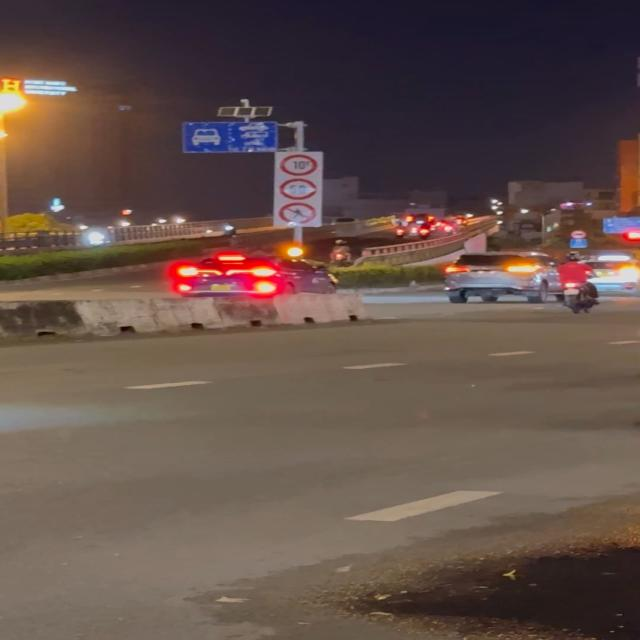Bien bao cam nguoi di bo: (278, 200, 316, 224)
Bien bao toc do toi da cho phep: (277, 178, 321, 200)
